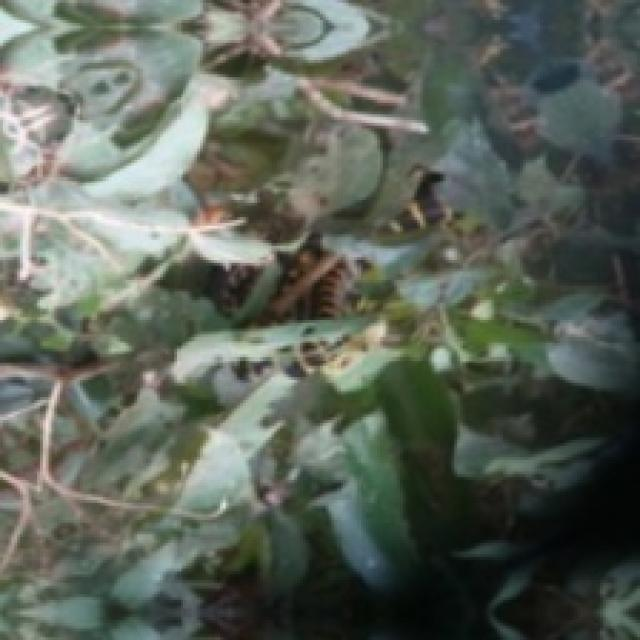mangrove cat snake: (378, 170, 450, 238), (309, 256, 375, 318)
